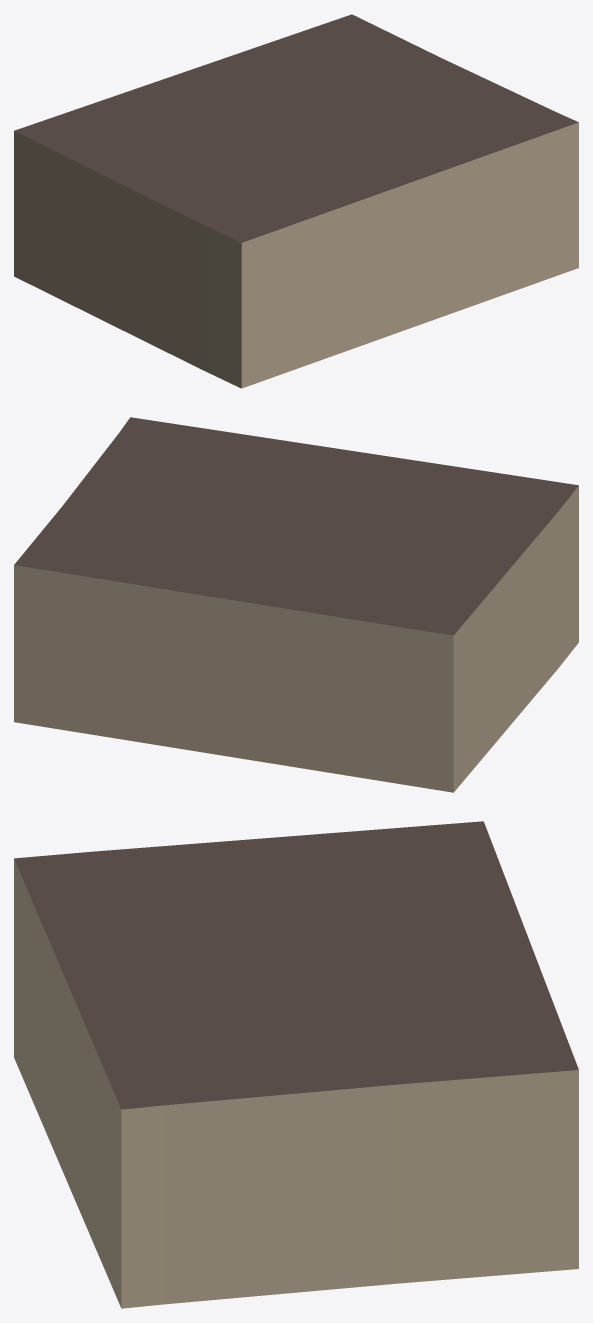
3 renders of one model, top to bottom at view 1: azimuth 30°, elevation 25°; view 2: azimuth 150°, elevation 25°; view 3: azimuth 270°, elevation 25°, orthographic. The views are drawn at different scales.
Visible parts, largest first — view 1: HP-w1196661452; view 2: HP-w1196661452; view 3: HP-w1196661452.
Boxes of the visible parts, bbox=[...] form: HP-w1196661452: bbox=[14, 14, 578, 388]; HP-w1196661452: bbox=[14, 417, 578, 792]; HP-w1196661452: bbox=[14, 821, 578, 1308].
Size of the model in its own units: 27.96 by 9 by 23.15.
